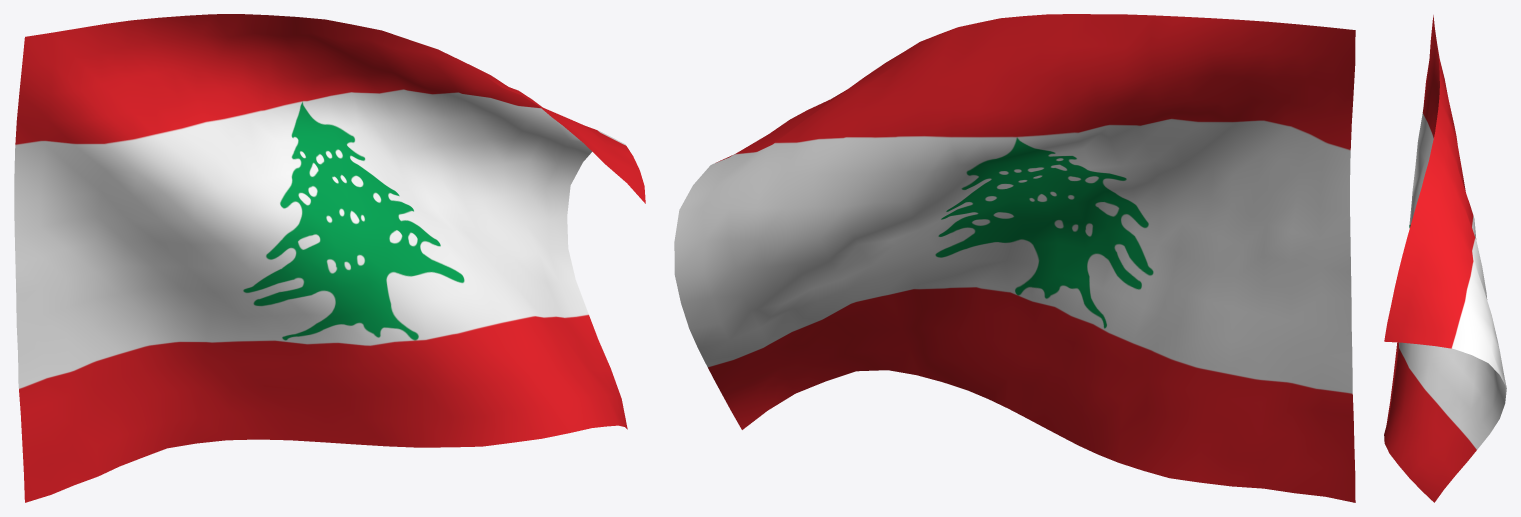
3 views of the same model, side by side, from view 1: azimuth 30°, elevation 25°; view 2: azimuth 150°, elevation 25°; view 3: azimuth 270°, elevation 25° (orthographic). The views are drawn at different scales.
Visible parts, largest first — view 1: Flag ShapeKeys_2_4_7; view 2: Flag ShapeKeys_2_4_7; view 3: Flag ShapeKeys_2_4_7.
Boxes of the visible parts, left/top/right/bottom form: Flag ShapeKeys_2_4_7: left=14, top=14, right=645, bottom=502; Flag ShapeKeys_2_4_7: left=674, top=14, right=1355, bottom=502; Flag ShapeKeys_2_4_7: left=1384, top=15, right=1506, bottom=502.
Bounding box in the file's own units: 2.8 × 2.32 × 0.8164.
1 material, 1 textured.
